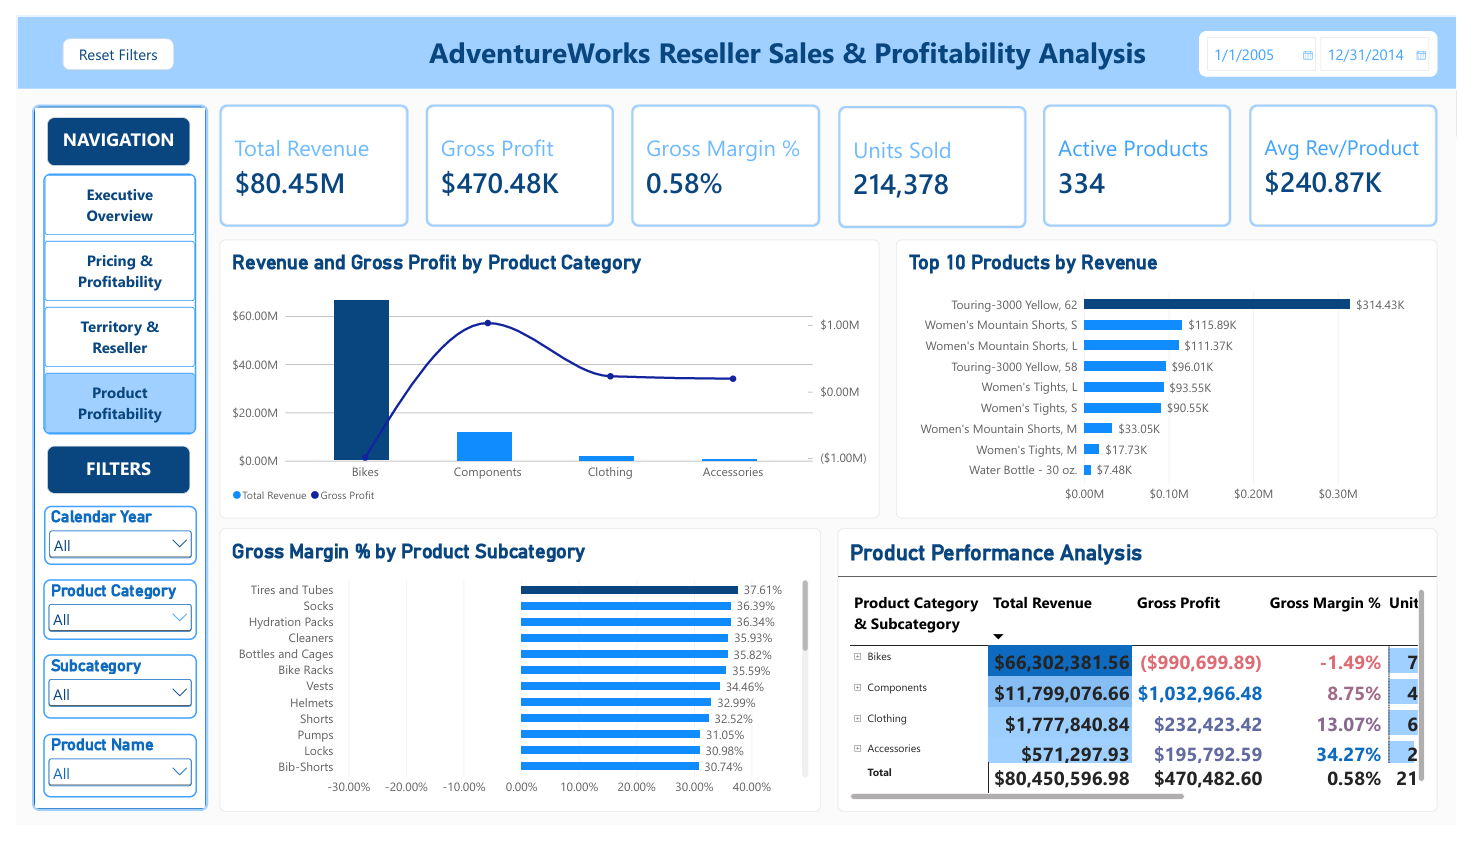

The dashboard page shown, as its layout file describes it:
{"tool":"powerbi","page":{"name":"Product Profitability","canvas":[1920,1080],"ordinal":3},"visuals":[{"type":"cardVisual","fields":{"Data":["_Measures.Total Revenue"]},"box":[270.4,118.1,251.6,162.6],"z":0},{"type":"shape","box":[0,0,1920,98],"z":1000},{"type":"shape","box":[19.6,118.4,235,941.9],"z":2000},{"type":"textbox","box":[478.6,14.3,1096.9,70.3],"z":3000},{"type":"cardVisual","fields":{"Data":["_Measures.Gross Profit"]},"box":[544.9,118.1,251.6,162.6],"z":4000},{"type":"cardVisual","fields":{"Data":["_Measures.Gross Margin %"]},"box":[819.3,118.1,251.6,162.6],"z":5000},{"type":"cardVisual","fields":{"Data":["_Measures.Active Products"]},"box":[1367.9,118.4,251.6,162.6],"z":6000},{"type":"cardVisual","fields":{"Data":["_Measures.Units Sold"]},"box":[1094.7,120.4,251.6,162.6],"z":7000},{"type":"cardVisual","fields":{"Data":["_Measures.Avg Revenue per Product"]},"box":[1642.8,118.1,251.6,162.6],"z":8000},{"type":"lineClusteredColumnComboChart","title":"Revenue and Gross Profit by Product Category","fields":{"Category":["DimProductCategory.EnglishProductCategoryName"],"Y":["_Measures.Total Revenue"],"Y2":["_Measures.Gross Profit"]},"box":[270.3,298.1,879.5,372.2],"z":9000},{"type":"clusteredBarChart","title":"Top 10 Products by Revenue ","fields":{"Category":["DimProduct.EnglishProductName"],"Y":["_Measures.Total Revenue"]},"box":[1172,298.1,722.1,372.2],"z":10000},{"type":"clusteredBarChart","title":"Gross Margin % by Product Subcategory","fields":{"Category":["DimProductSubcategory.EnglishProductSubcategoryName"],"Y":["_Measures.Gross Margin %"]},"box":[270.3,683.2,801.7,377.7],"z":11000},{"type":"pivotTable","title":"Product Performance  Analysis","fields":{"Rows":["DimProductCategory.EnglishProductCategoryName","DimProductSubcategory.EnglishProductSubcategoryName","DimProduct.EnglishProductName"],"Values":["_Measures.Total Revenue","_Measures.Gross Profit","_Measures.Gross Margin %","_Measures.Units Sold","_Measures.Total Orders","_Measures.Average Selling Price"]},"box":[1094.2,683.2,799.8,377.7],"z":12000},{"type":"textbox","box":[40.4,135,190.5,64.7],"z":13000},{"type":"textbox","box":[39.8,573.1,191,64],"z":14000},{"type":"slicer","fields":{"Values":["DimDate.FullDateAlternateKey"]},"box":[1576,20.3,318.2,61],"z":15000},{"type":"slicer","fields":{"Values":["DimDate.CalendarYear"]},"box":[35.5,653.4,204,78.3],"z":16000},{"type":"slicer","fields":{"Values":["DimProductCategory.EnglishProductCategoryName"]},"box":[35.3,751.4,204.4,80.2],"z":17000},{"type":"slicer","fields":{"Values":["DimProductSubcategory.EnglishProductSubcategoryName"]},"box":[35.3,851.4,204.4,86],"z":18000},{"type":"pageNavigator","box":[34.9,210.1,204.4,347.7],"z":19000},{"type":"slicer","fields":{"Values":["DimProduct.EnglishProductName"]},"box":[35.3,957.1,204.4,85],"z":20000},{"type":"actionButton","box":[60.6,30.3,148,42],"z":21000}]}

Visuals, with their boxes in screenshot pixels (x1, y1, x2, y2), scaled from the page's 1920x1080 canvas onto the 1475x844 screenshot:
cardVisual - _Measures.Total Revenue: left=208, top=92, right=401, bottom=219
shape: left=0, top=0, right=1474, bottom=77
shape: left=15, top=93, right=196, bottom=829
textbox: left=368, top=11, right=1210, bottom=66
cardVisual - _Measures.Gross Profit: left=419, top=92, right=612, bottom=219
cardVisual - _Measures.Gross Margin %: left=629, top=92, right=823, bottom=219
cardVisual - _Measures.Active Products: left=1051, top=93, right=1244, bottom=220
cardVisual - _Measures.Units Sold: left=841, top=94, right=1034, bottom=221
cardVisual - _Measures.Avg Revenue per Product: left=1262, top=92, right=1455, bottom=219
"Revenue and Gross Profit by Product Category" lineClusteredColumnComboChart: left=208, top=233, right=883, bottom=524
"Top 10 Products by Revenue " clusteredBarChart: left=900, top=233, right=1455, bottom=524
"Gross Margin % by Product Subcategory" clusteredBarChart: left=208, top=534, right=824, bottom=829
"Product Performance  Analysis" pivotTable: left=841, top=534, right=1455, bottom=829
textbox: left=31, top=106, right=177, bottom=156
textbox: left=31, top=448, right=177, bottom=498
slicer - DimDate.FullDateAlternateKey: left=1211, top=16, right=1455, bottom=64
slicer - DimDate.CalendarYear: left=27, top=511, right=184, bottom=572
slicer - DimProductCategory.EnglishProductCategoryName: left=27, top=587, right=184, bottom=650
slicer - DimProductSubcategory.EnglishProductSubcategoryName: left=27, top=665, right=184, bottom=733
pageNavigator: left=27, top=164, right=184, bottom=436
slicer - DimProduct.EnglishProductName: left=27, top=748, right=184, bottom=814
actionButton: left=47, top=24, right=160, bottom=57
